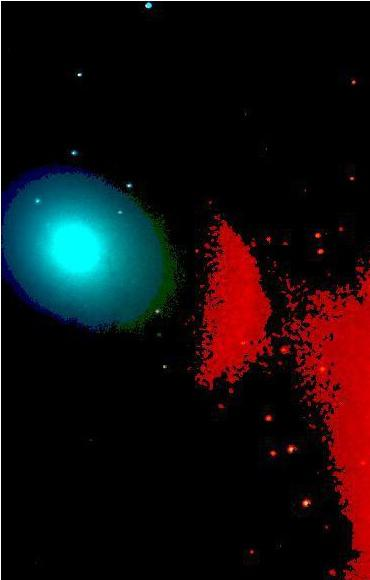star: (116, 266, 146, 296)
